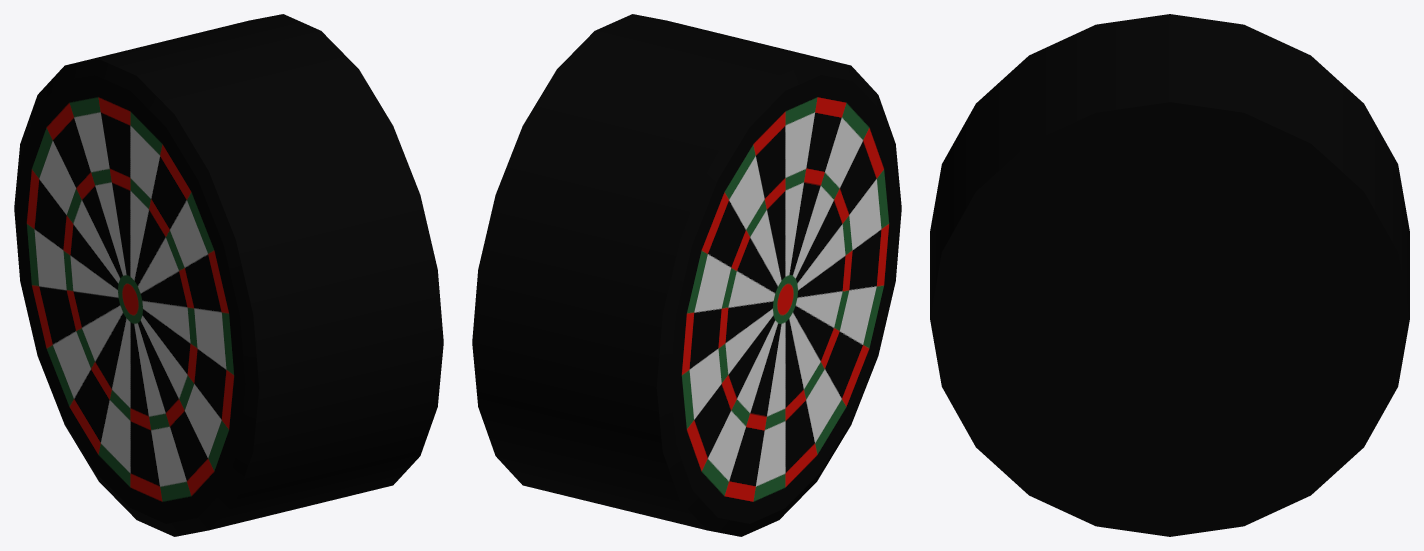
Rendered from obj_diana_wheels.fbx.
The picture shows the model from 3 angles, left to right: view 1: azimuth 30°, elevation 25°; view 2: azimuth 150°, elevation 25°; view 3: azimuth 270°, elevation 25°; orthographic projection. The views are drawn at different scales.
Parts seen in each view (by area): view 1: obj_wheels_diana_FL; view 2: obj_wheels_diana_FL; view 3: obj_wheels_diana_FL.
Boxes of the visible parts, <box> form: obj_wheels_diana_FL: <box>14,14,443,536</box>; obj_wheels_diana_FL: <box>472,14,901,536</box>; obj_wheels_diana_FL: <box>930,14,1409,536</box>.
Size of the model in its own units: 0.2957 by 0.6579 by 0.6579.
Materials: 1 (1 with a texture image).
